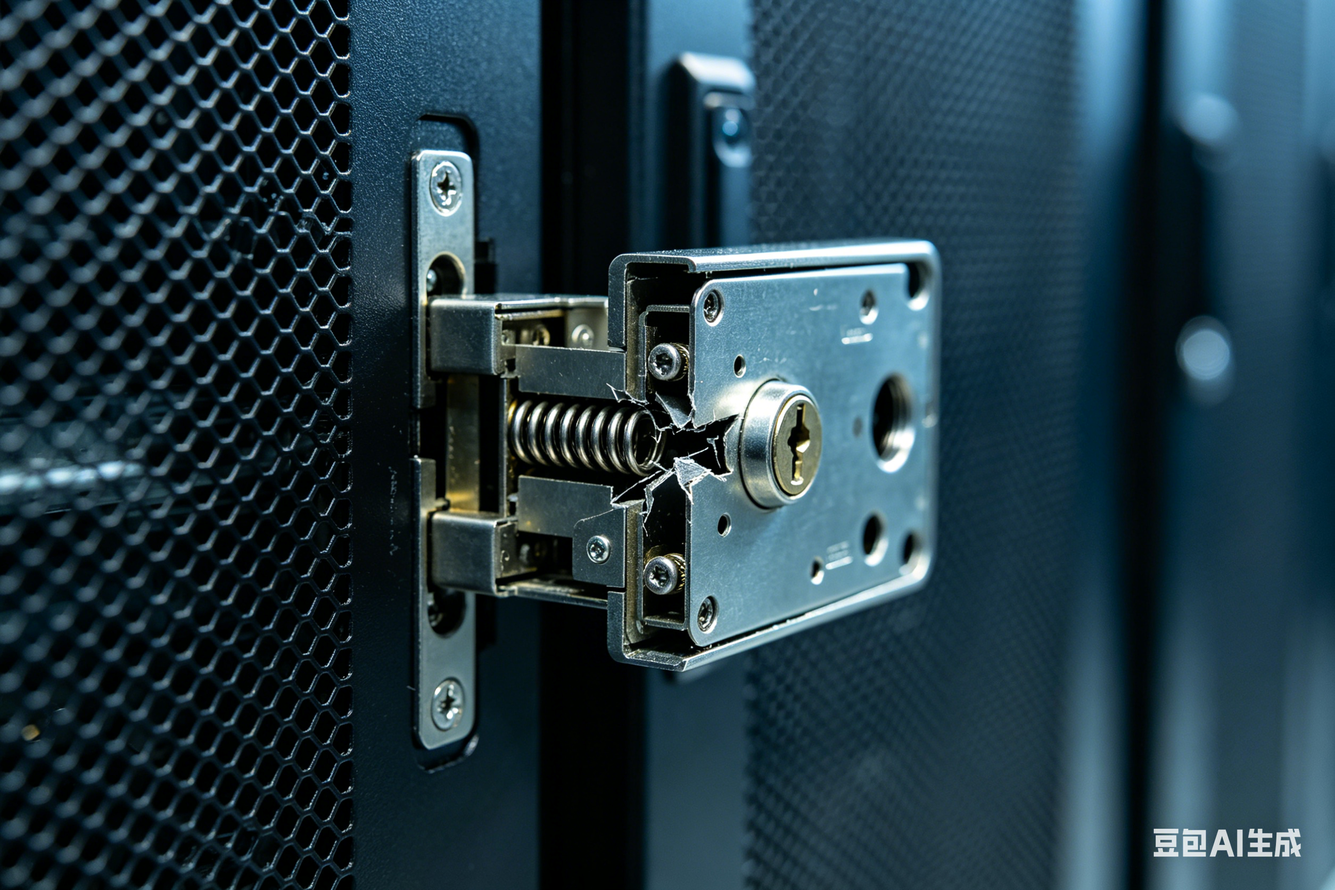BadLock: (571, 303, 739, 654)
